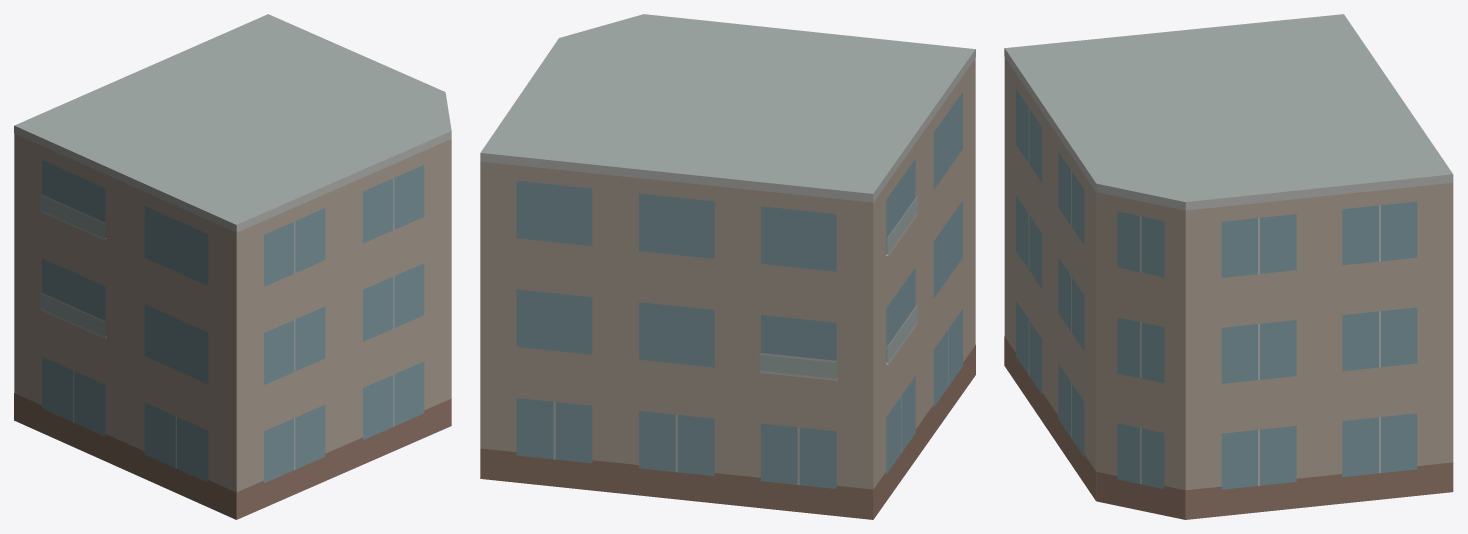
Rendered from survey-upis-32656438.glb.
3 renders of one model, left to right at view 1: azimuth 30°, elevation 25°; view 2: azimuth 150°, elevation 25°; view 3: azimuth 270°, elevation 25°, orthographic. The views are drawn at different scales.
Visible parts, largest first — view 1: survey-upis-32656438.tmp; view 2: survey-upis-32656438.tmp; view 3: survey-upis-32656438.tmp.
Part boxes in pixels (x1=…): survey-upis-32656438.tmp: x1=14, y1=14, x2=451, y2=519; survey-upis-32656438.tmp: x1=480, y1=14, x2=975, y2=519; survey-upis-32656438.tmp: x1=1004, y1=14, x2=1453, y2=519.
Size of the model in its own units: 11.63 by 9.15 by 11.72.
